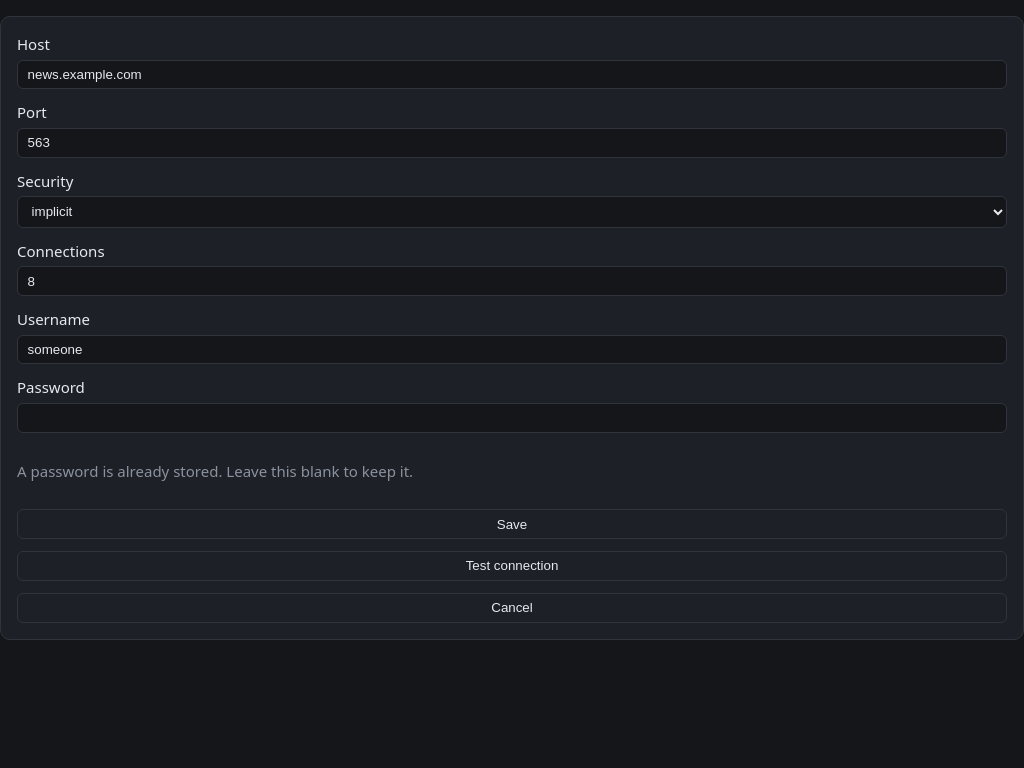
Test: SettingsDialog connection test › lists the pool per-attempt failures so a connection cap is visible
This screenshot has width=1024, height=768.
Click the button "Test connection": (512, 566) top-left (17, 551), bottom-right (1007, 581)
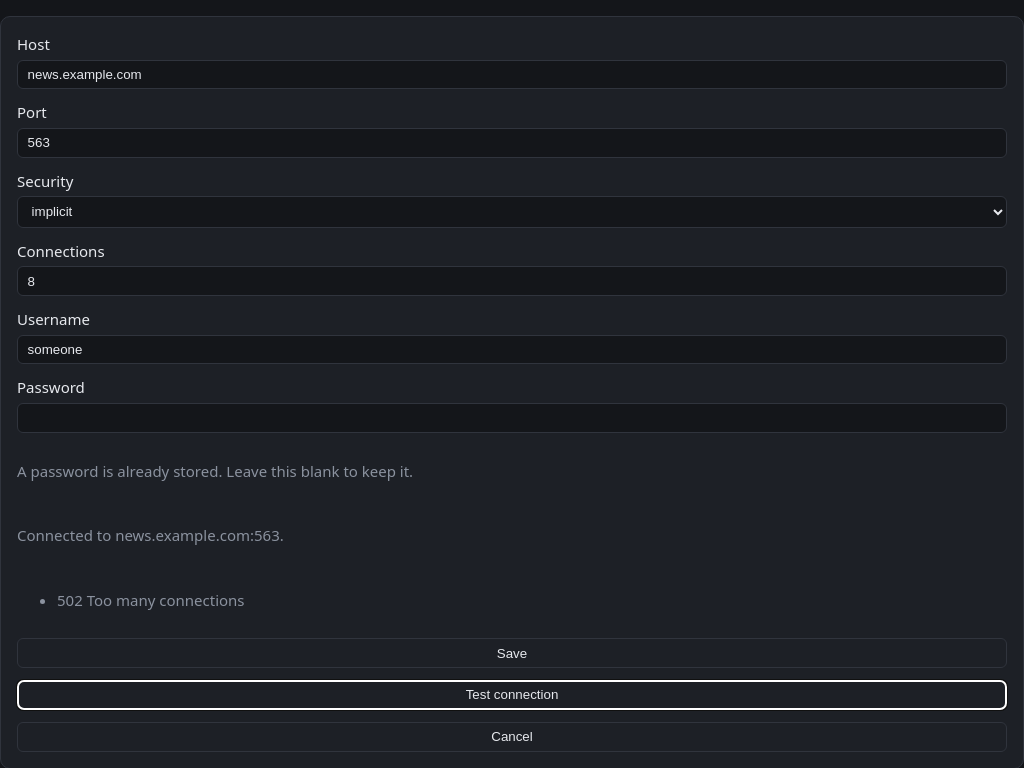
Expected: the list item "502 Too many connections" is shown, top-left (57, 590), bottom-right (244, 610)
